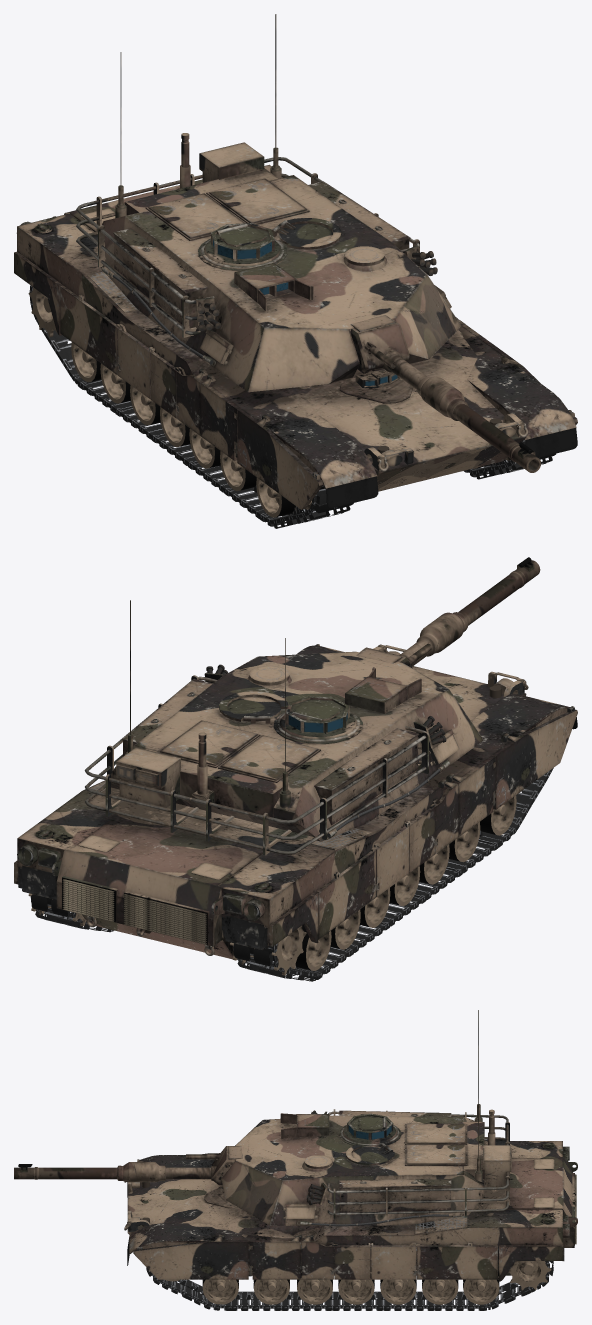
The model's file is M1Abrams.fbx.
3 views of the same model, one above another, from view 1: azimuth 30°, elevation 25°; view 2: azimuth 150°, elevation 25°; view 3: azimuth 270°, elevation 25° (orthographic). The views are drawn at different scales.
Visible parts, largest first — view 1: Turret_LOD0, Hull_LOD0, TrackL_LOD0, Barrel_LOD0, GunMount_LOD0, RoadWheel_L_01_LOD0, RoadWheel_L_02_LOD0, RoadWheel_L_03_LOD0, RoadWheel_L_05_LOD0, RoadWheel_L_06_LOD0, RoadWheel_L_04_LOD0, RoadWheel_L_07_LOD0 (+2 smaller); view 2: Hull_LOD0, Turret_LOD0, TrackL_LOD0, Barrel_LOD0, TrackR_LOD0, EndWheel_L_Rear_LOD0, RoadWheel_L_07_LOD0, RoadWheel_L_01_LOD0, RoadWheel_L_02_LOD0, RoadWheel_L_05_LOD0, RoadWheel_L_03_LOD0, RoadWheel_L_04_LOD0 (+2 smaller); view 3: Hull_LOD0, Turret_LOD0, TrackR_LOD0, Barrel_LOD0, EndWheel_R_Rear_LOD0, RoadWheel_R_04_LOD0, GunMount_LOD0, RoadWheel_R_03_LOD0, RoadWheel_R_07_LOD0, RoadWheel_R_05_LOD0, RoadWheel_R_01_LOD0, RoadWheel_R_06_LOD0 (+1 smaller).
Part boxes in pixels (left/top/right/bottom): Turret_LOD0: left=76, top=14, right=461, bottom=392; Hull_LOD0: left=14, top=164, right=577, bottom=509; TrackL_LOD0: left=29, top=285, right=353, bottom=528; Barrel_LOD0: left=383, top=350, right=541, bottom=472; GunMount_LOD0: left=350, top=315, right=409, bottom=373; RoadWheel_L_01_LOD0: left=256, top=477, right=302, bottom=517; RoadWheel_L_02_LOD0: left=220, top=451, right=256, bottom=491; RoadWheel_L_03_LOD0: left=189, top=429, right=220, bottom=468; RoadWheel_L_05_LOD0: left=130, top=385, right=160, bottom=425; RoadWheel_L_06_LOD0: left=100, top=363, right=130, bottom=403; RoadWheel_L_04_LOD0: left=160, top=407, right=190, bottom=447; RoadWheel_L_07_LOD0: left=71, top=342, right=101, bottom=382; Hull_LOD0: left=14, top=644, right=577, bottom=959; Turret_LOD0: left=84, top=600, right=483, bottom=855; TrackL_LOD0: left=233, top=768, right=553, bottom=981; Barrel_LOD0: left=399, top=557, right=540, bottom=666; TrackR_LOD0: left=30, top=894, right=113, bottom=932; EndWheel_L_Rear_LOD0: left=230, top=925, right=306, bottom=975; RoadWheel_L_07_LOD0: left=295, top=924, right=331, bottom=970; RoadWheel_L_01_LOD0: left=480, top=795, right=516, bottom=835; RoadWheel_L_02_LOD0: left=449, top=822, right=480, bottom=862; RoadWheel_L_05_LOD0: left=359, top=888, right=390, bottom=927; RoadWheel_L_03_LOD0: left=419, top=844, right=449, bottom=884; RoadWheel_L_04_LOD0: left=389, top=866, right=420, bottom=906; Hull_LOD0: left=124, top=1141, right=577, bottom=1281; Turret_LOD0: left=221, top=1010, right=511, bottom=1226; TrackR_LOD0: left=146, top=1245, right=553, bottom=1310; Barrel_LOD0: left=14, top=1162, right=216, bottom=1182; EndWheel_R_Rear_LOD0: left=508, top=1261, right=551, bottom=1290; RoadWheel_R_04_LOD0: left=338, top=1267, right=374, bottom=1304; GunMount_LOD0: left=186, top=1146, right=242, bottom=1185; RoadWheel_R_03_LOD0: left=297, top=1266, right=332, bottom=1304; RoadWheel_R_07_LOD0: left=463, top=1271, right=499, bottom=1304; RoadWheel_R_05_LOD0: left=380, top=1271, right=416, bottom=1304; RoadWheel_R_01_LOD0: left=202, top=1279, right=238, bottom=1304; RoadWheel_R_06_LOD0: left=422, top=1279, right=458, bottom=1304.
Size of what is drawn, in the model's own units: 350 by 425 by 938.
3 materials, 2 textured.
